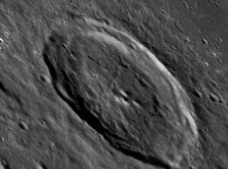crater: (9, 5, 210, 168)
